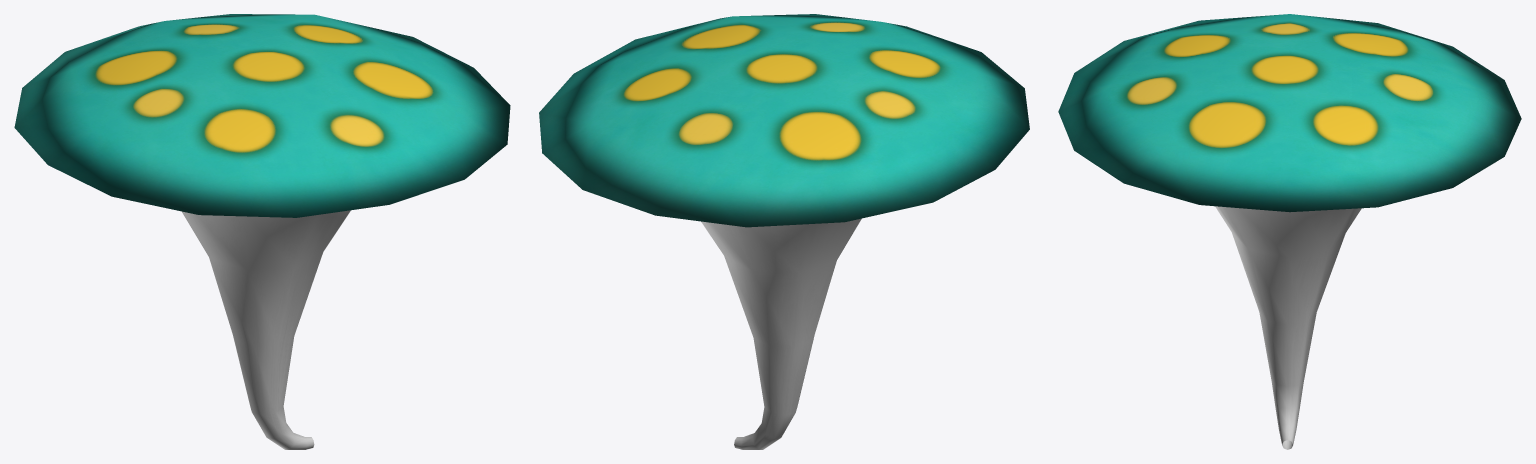
File: Mushroom_Curved2_Blue.fbx
The picture shows the model from 3 angles, left to right: view 1: azimuth 30°, elevation 25°; view 2: azimuth 150°, elevation 25°; view 3: azimuth 270°, elevation 25°; orthographic projection. The views are drawn at different scales.
Parts seen in each view (by area): view 1: Mesh; view 2: Mesh; view 3: Mesh.
Boxes of the visible parts, <box> form: Mesh: <box>14,14,510,449</box>; Mesh: <box>539,14,1029,449</box>; Mesh: <box>1058,14,1521,449</box>.
Bounding box in the file's own units: 318 × 282 × 326.
